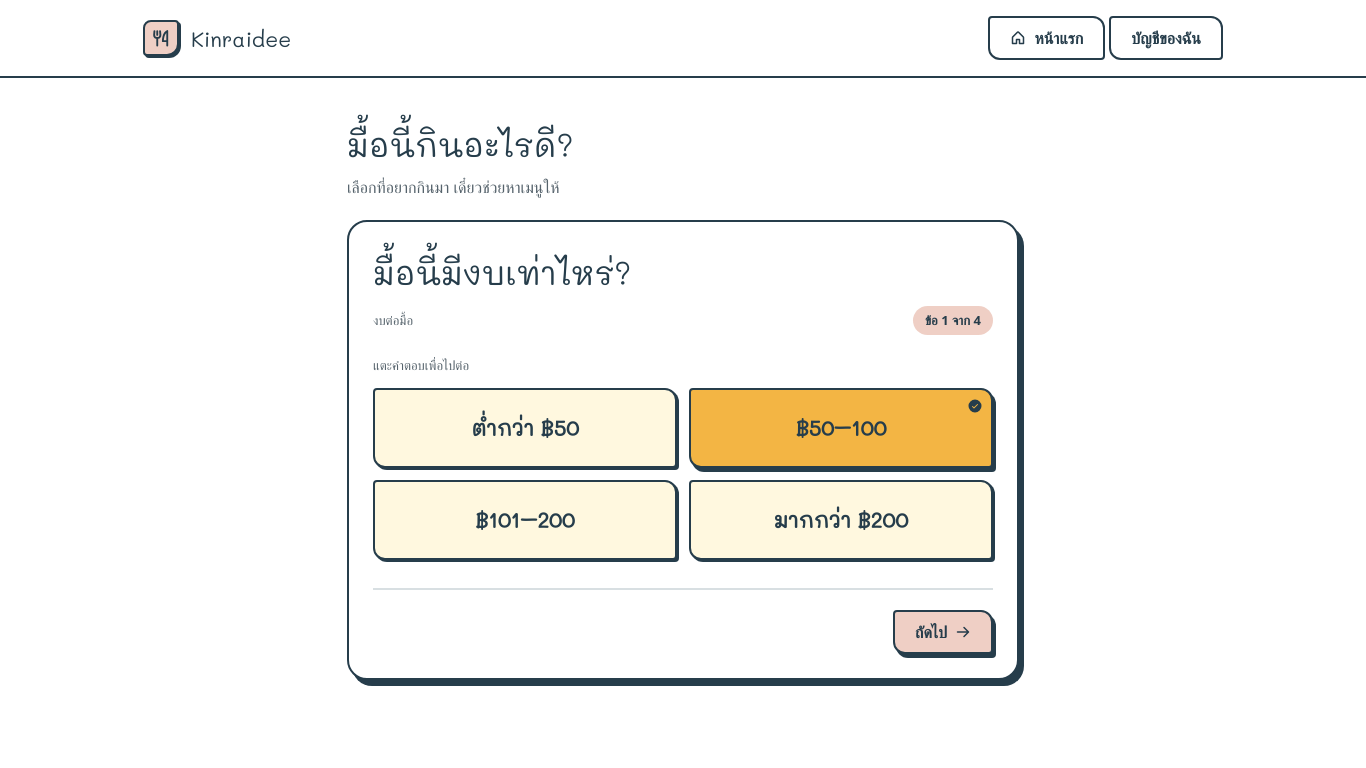
Test: Saved defaults in the meal flow › advances a saved answer after a mouse label tap with a zero-detail click
Click the element showing "฿50–100": (841, 428) [689,388,993,468]
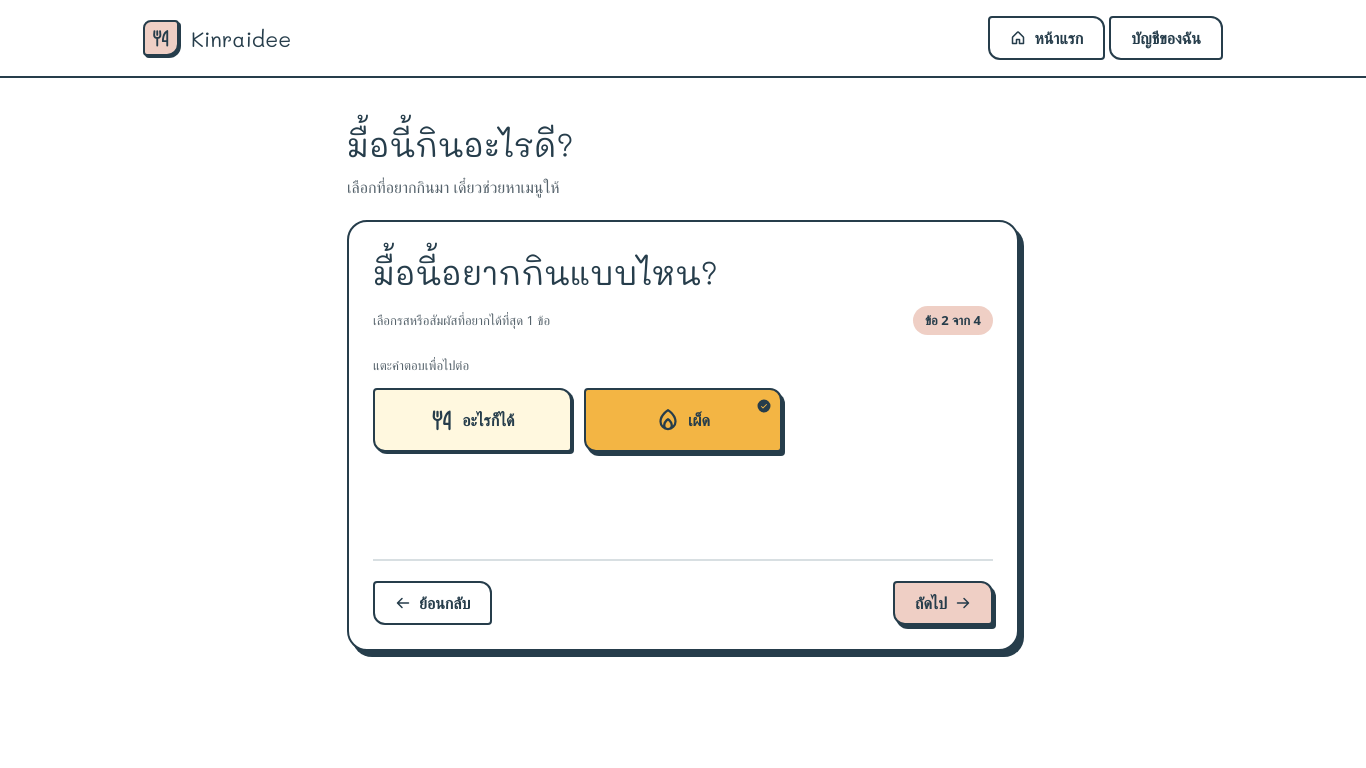
Expected: the text "ข้อ 2 จาก 4" is shown, [913,306,993,335]
